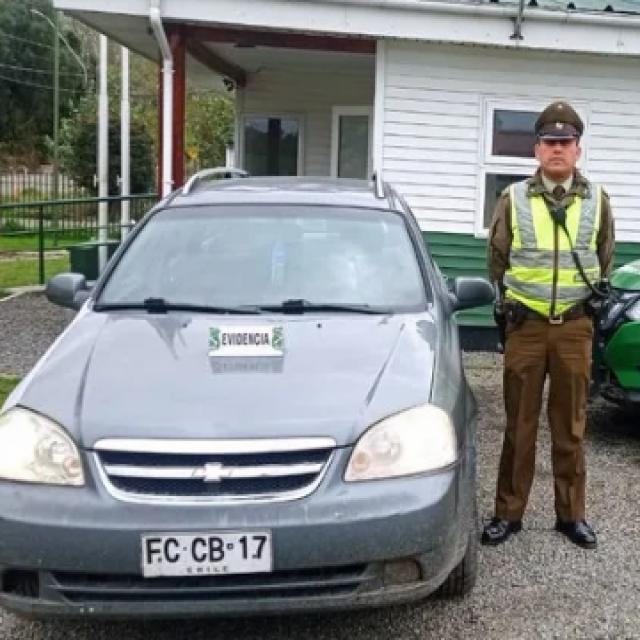patente: (137, 528, 274, 578)
